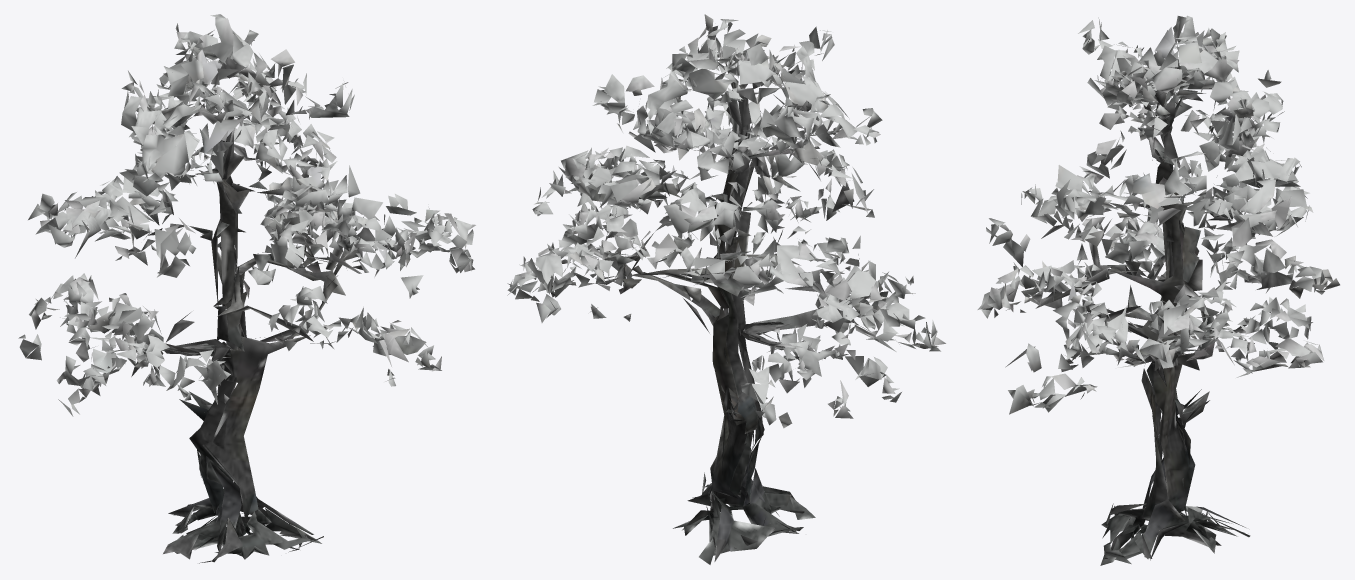
File: pinheiro_cinza_broto.glb
3 renders of one model, left to right at view 1: azimuth 30°, elevation 25°; view 2: azimuth 150°, elevation 25°; view 3: azimuth 270°, elevation 25°, orthographic.
Visible parts, largest first — view 1: geometry_0; view 2: geometry_0; view 3: geometry_0.
Boxes of the visible parts, x1,y1,x2,y2 form: geometry_0: (18,14,475,563); geometry_0: (507,14,945,564); geometry_0: (977,15,1339,565).
Size of the model in its own units: 0.7897 by 0.9856 by 0.6158.
1 material, 1 textured.
